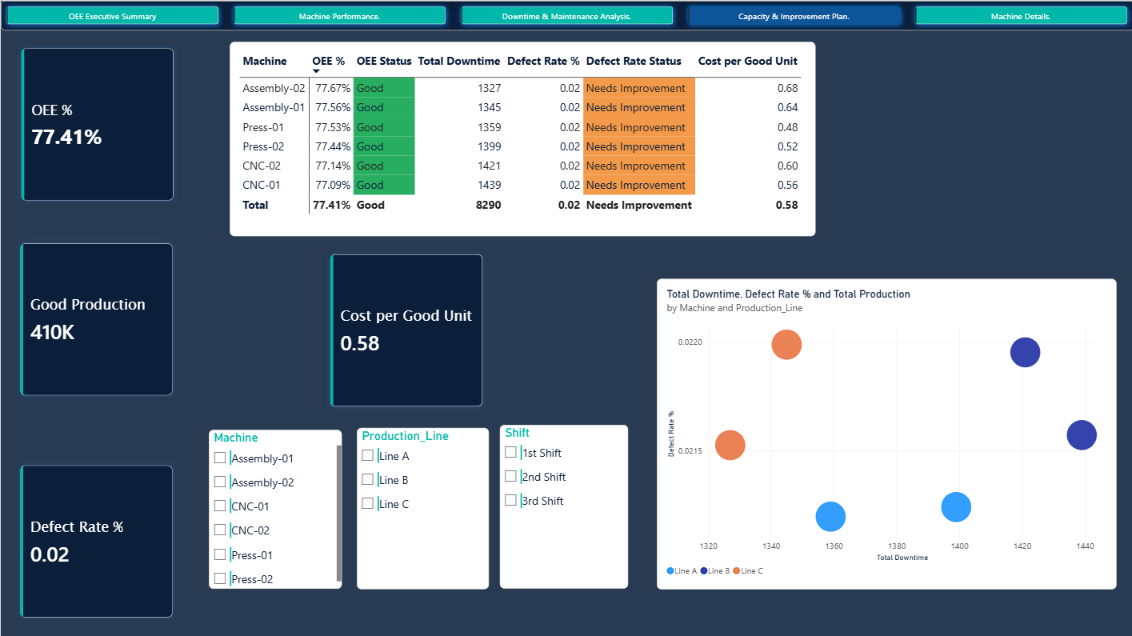

The dashboard page shown, as its layout file describes it:
{"tool":"powerbi","page":{"name":"Capacity & Improvement Plan.","canvas":[1920,1080],"ordinal":3},"visuals":[{"type":"cardVisual","fields":{"Data":["OEE_data.OEE %"]},"box":[23.1,69.4,280,280],"z":0},{"type":"cardVisual","fields":{"Data":["OEE_data.Cost per Good Unit"]},"box":[547.6,418.4,280,280],"z":1000},{"type":"cardVisual","fields":{"Data":["OEE_data.Defect Rate %"]},"box":[22.7,776.2,280,280],"z":2000},{"type":"cardVisual","fields":{"Data":["OEE_data.Good Production"]},"box":[22.7,399.4,280,280],"z":3000},{"type":"pivotTable","fields":{"Rows":["OEE_data.Machine"],"Values":["OEE_data.OEE %","OEE_data.OEE Status","OEE_data.Total Downtime","OEE_data.Defect Rate %","OEE_data.Defect Rate Status","OEE_data.Cost per Good Unit"]},"box":[387.5,69.4,993,329.7],"z":4000},{"type":"scatterChart","fields":{"Category":["OEE_data.Machine"],"Series":["OEE_data.Production_Line"],"Size":["OEE_data.Total Production"],"X":["OEE_data.Total Downtime"],"Y":["OEE_data.Defect Rate %"]},"box":[1112.5,470.5,779,526.4],"z":5000},{"type":"slicer","fields":{"Values":["OEE_data.Machine"]},"box":[352.8,726.9,225.6,269.9],"z":6000},{"type":"slicer","fields":{"Values":["OEE_data.Production_Line"]},"box":[603.5,723,223.7,273.8],"z":7000},{"type":"slicer","fields":{"Values":["OEE_data.Shift"]},"box":[846.4,719.2,217.9,277.6],"z":8000},{"type":"pageNavigator","box":[0,0,1920.4,50.1],"z":8001}]}

Visuals, with their boxes in screenshot pixels (x1, y1, x2, y2), scaled from the page's 1920x1080 canvas onto the 1132x636 screenshot:
cardVisual - OEE_data.OEE %: 14, 41, 179, 206
cardVisual - OEE_data.Cost per Good Unit: 323, 246, 488, 411
cardVisual - OEE_data.Defect Rate %: 13, 457, 178, 622
cardVisual - OEE_data.Good Production: 13, 235, 178, 400
pivotTable - OEE_data.Machine x OEE_data.OEE %: 228, 41, 814, 235
scatterChart - OEE_data.Machine x OEE_data.Production_Line: 656, 277, 1115, 587
slicer - OEE_data.Machine: 208, 428, 341, 587
slicer - OEE_data.Production_Line: 356, 426, 488, 587
slicer - OEE_data.Shift: 499, 424, 627, 587
pageNavigator: 0, 0, 1131, 30
